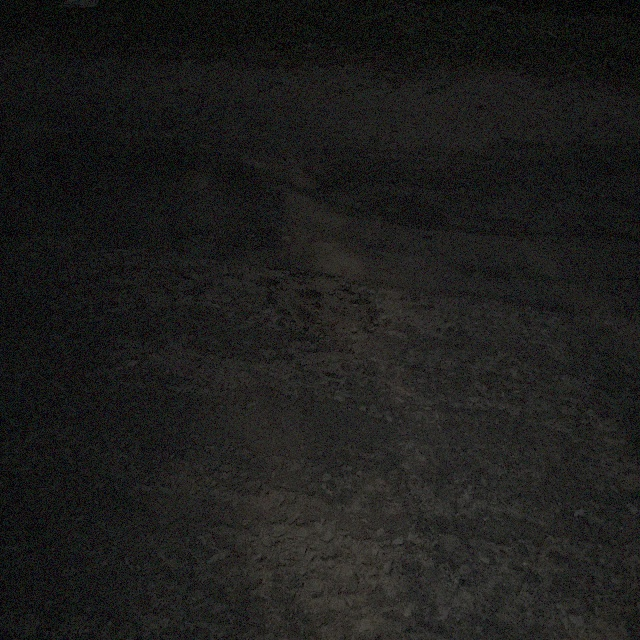pothole: (263, 263, 377, 343)
